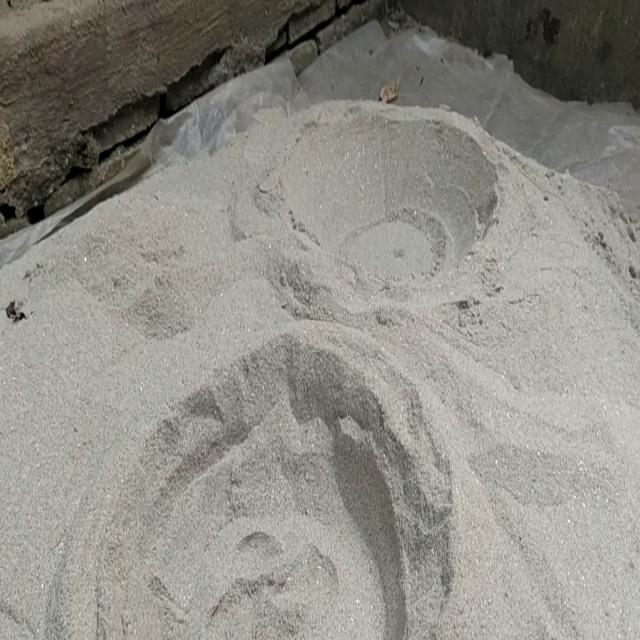C20: (96, 338, 430, 638), (259, 108, 495, 280)
